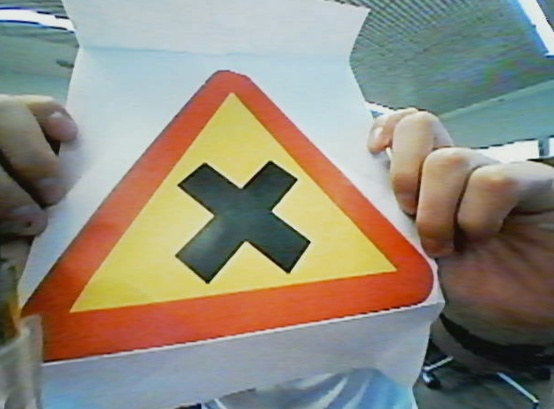junction: (13, 62, 440, 361)
